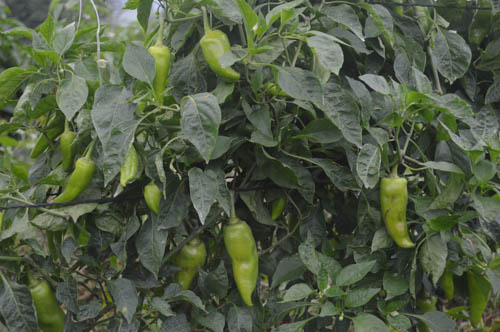ChiliPepper: (225, 225, 261, 307), (200, 33, 240, 84), (382, 180, 412, 246), (51, 160, 94, 201), (176, 247, 210, 291), (32, 284, 63, 329), (146, 44, 168, 100), (117, 150, 137, 186), (62, 132, 78, 170), (144, 185, 159, 207)
